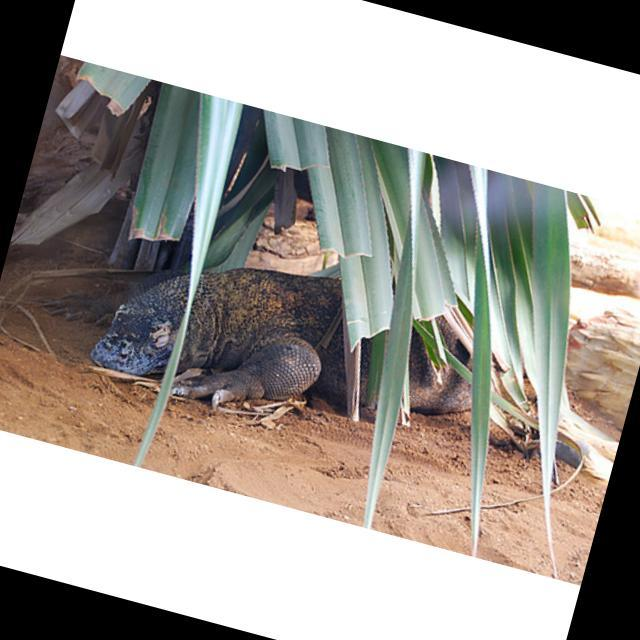KomodoDragon: (24, 201, 570, 498)
